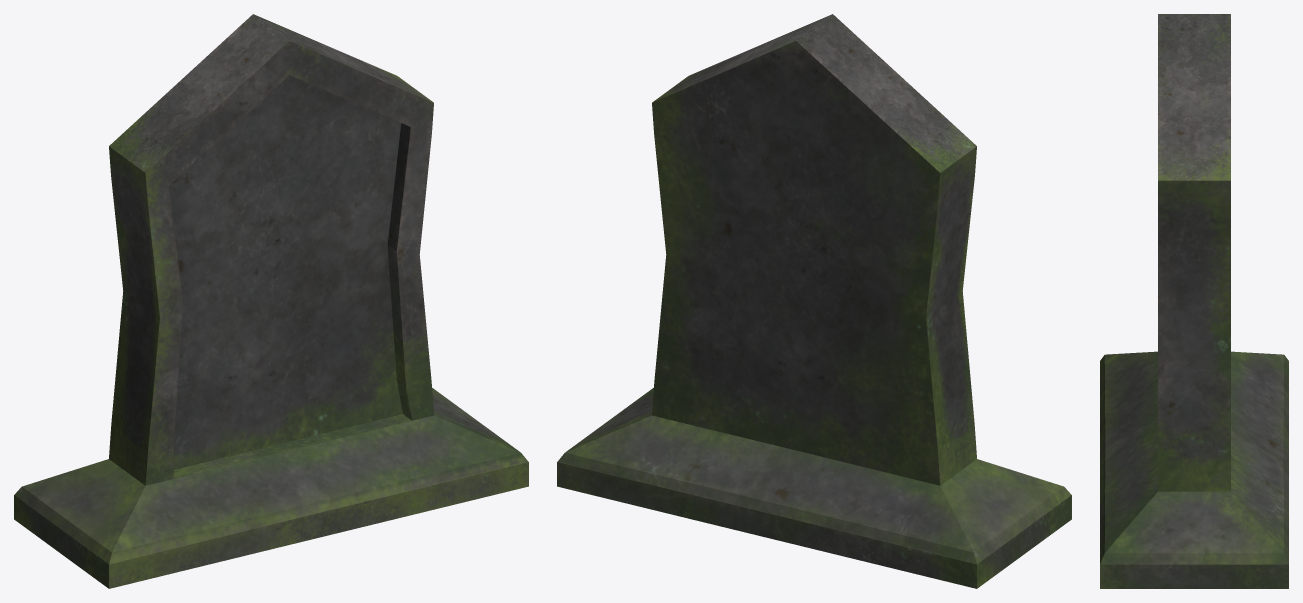
The model's file is tombs_moss_02.fbx.
3 views of the same model, side by side, from view 1: azimuth 30°, elevation 25°; view 2: azimuth 150°, elevation 25°; view 3: azimuth 270°, elevation 25° (orthographic).
Parts seen in each view (by area): view 1: tombs_moss_02; view 2: tombs_moss_02; view 3: tombs_moss_02.
Boxes of the visible parts, box(x1,y1,x2,y2) form: tombs_moss_02: box(14, 14, 528, 588); tombs_moss_02: box(557, 14, 1071, 588); tombs_moss_02: box(1100, 14, 1288, 588).
Bounding box in the file's own units: 0.1766 × 0.1912 × 0.0692.
1 material, 1 textured.
